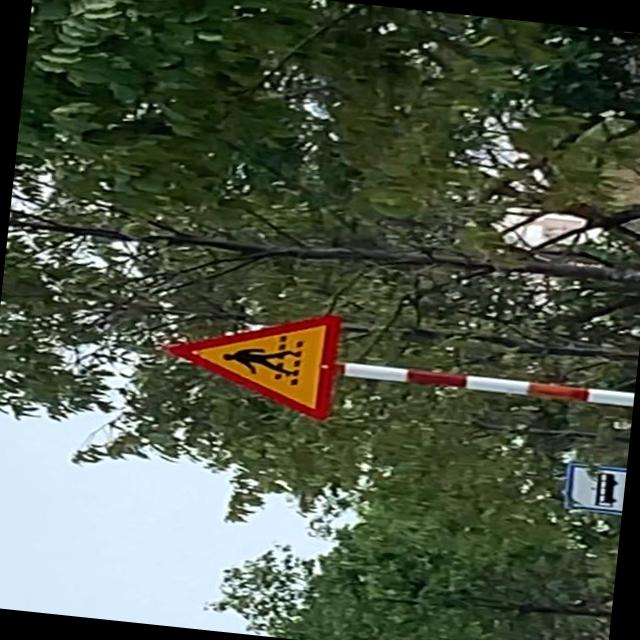W-224: (150, 298, 346, 422)
